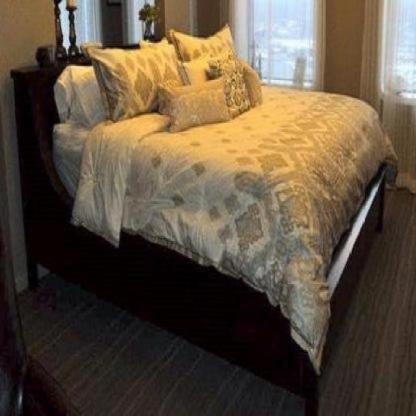Bed: (5, 20, 404, 415)
